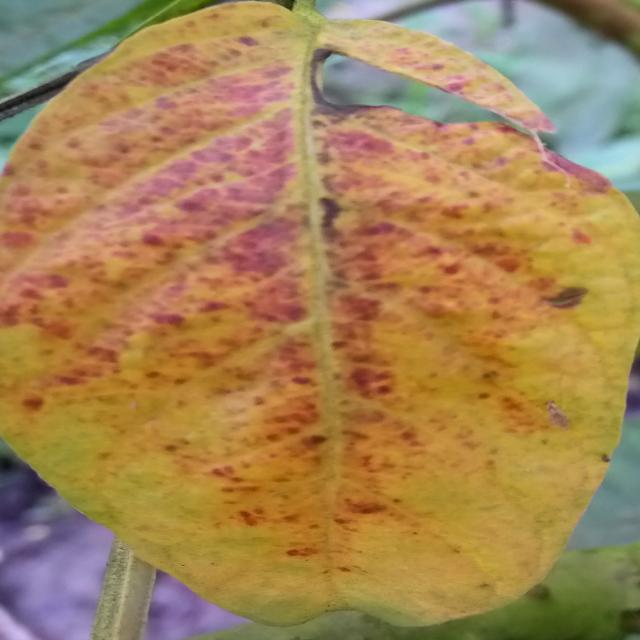Red Rust: (4, 0, 638, 625)
